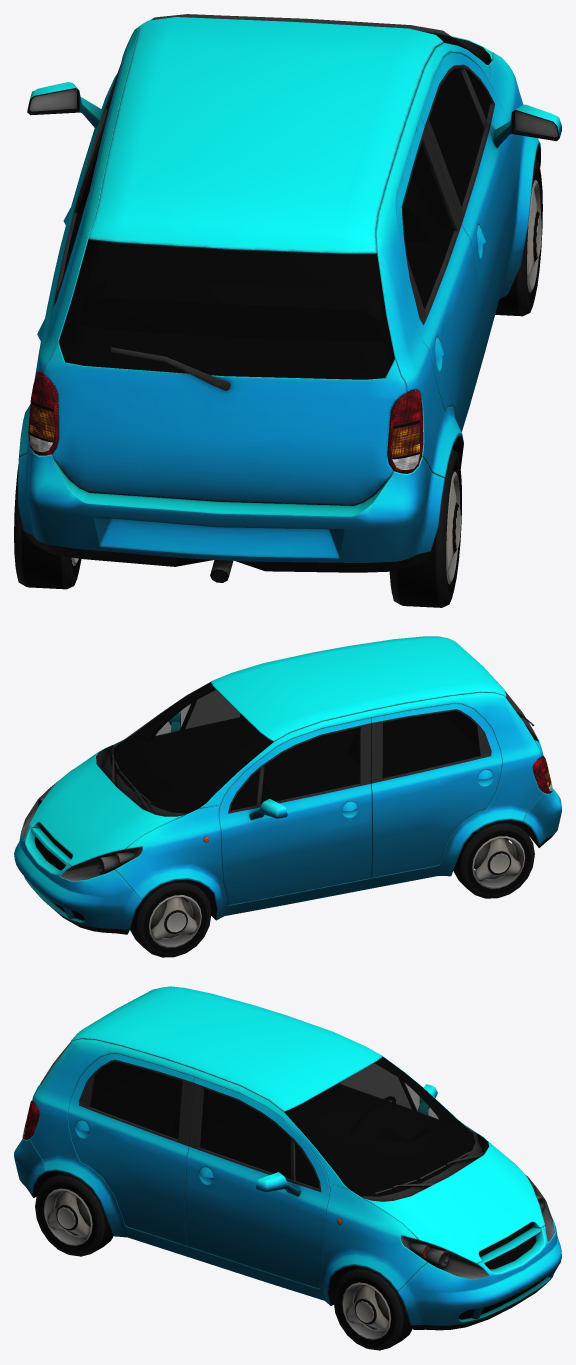
File: pack_compact.glb
3 renders of one model, top to bottom at view 1: azimuth 30°, elevation 25°; view 2: azimuth 150°, elevation 25°; view 3: azimuth 270°, elevation 25°, orthographic. The views are drawn at different scales.
Parts seen in each view (by area): view 1: Compact Body_Body_0, Compact Body_Glass_0, Wheel_C_Wheel_0, Compact Body_Optics_0; view 2: Compact Body_Body_0, Compact Body_Glass_0, Wheel_C_Wheel_0, Compact Body_Optics_0; view 3: Compact Body_Body_0, Compact Body_Glass_0, Wheel_C_Wheel_0, Compact Body_Optics_0.
Part boxes in pixels (x1,y1,x2,y2): Compact Body_Body_0: (18,17,561,582); Compact Body_Glass_0: (59,14,489,379); Wheel_C_Wheel_0: (14,159,542,607); Compact Body_Optics_0: (28,371,423,473); Compact Body_Body_0: (14,636,561,934); Compact Body_Glass_0: (21,682,538,881); Wheel_C_Wheel_0: (130,820,534,957); Compact Body_Optics_0: (38,756,552,874); Compact Body_Body_0: (14,986,561,1330); Compact Body_Glass_0: (40,1042,554,1279); Wheel_C_Wheel_0: (35,1172,412,1350); Compact Body_Optics_0: (22,1100,544,1268).
Size of the model in its own units: 2.65 by 1.32 by 3.07.
Materials: 4 (3 with a texture image).
